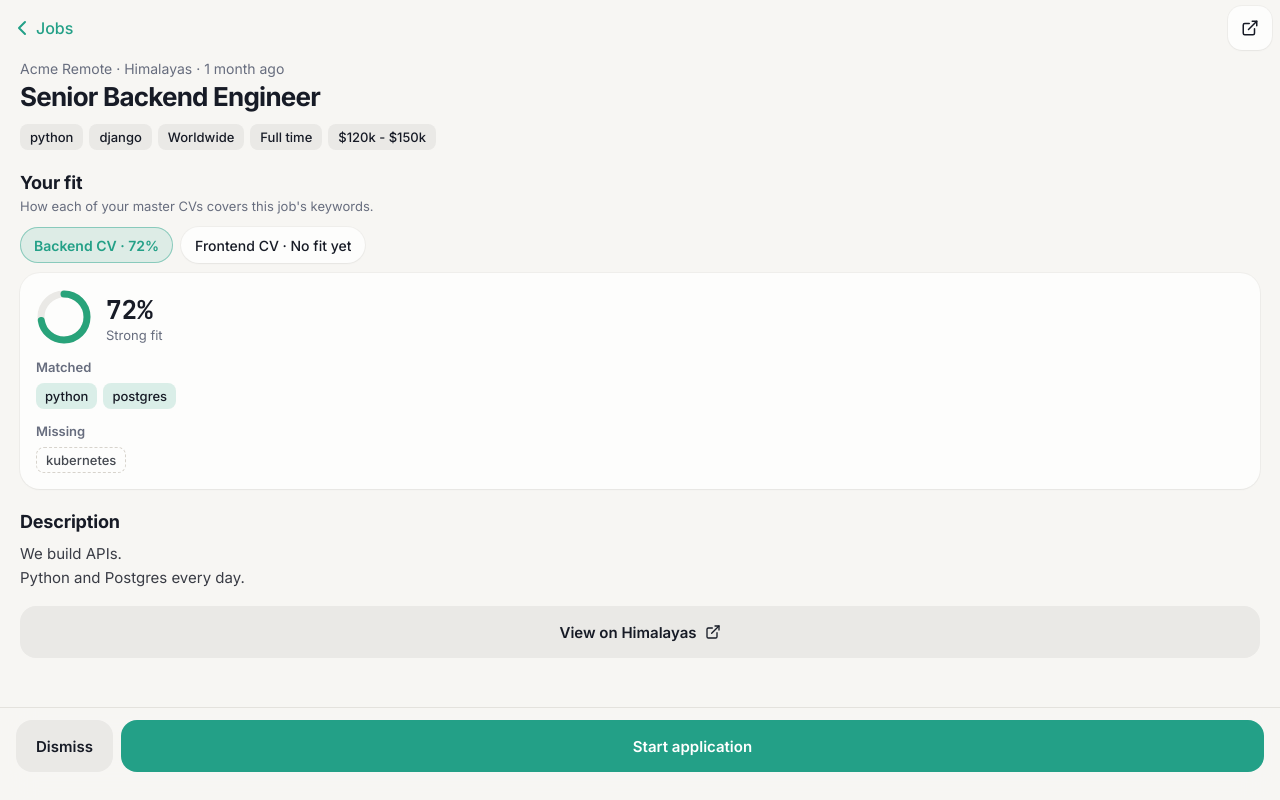
Test: a job below md › holds one tab and one heading per master CV, best first, a CV without a fit last
What coordinates should you click on to do the following:
click the tab "Frontend CV · No fit yet"
I would click on:
 (273, 245)
Its box is top-left (181, 223), bottom-right (366, 267).
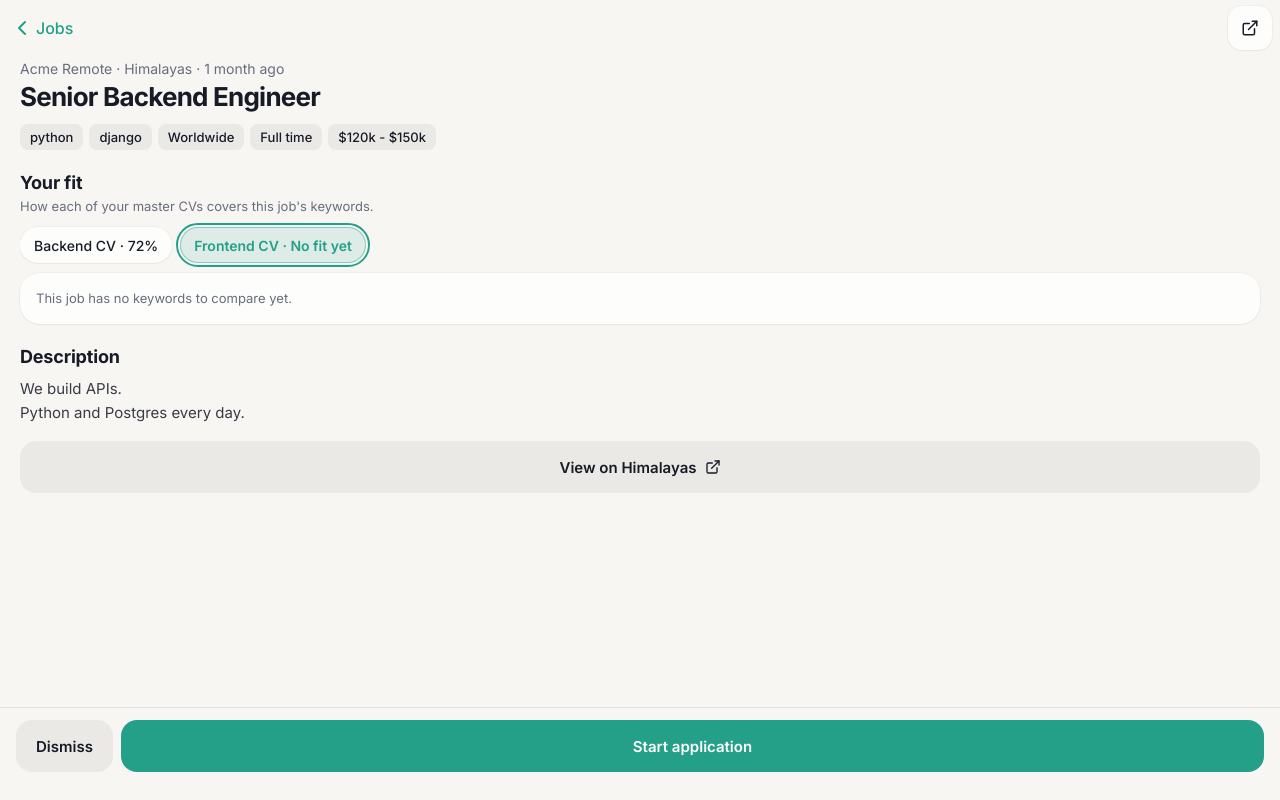
Now the text "This job has no keywords to compare yet." is shown, box top-left (36, 290), bottom-right (292, 306)
